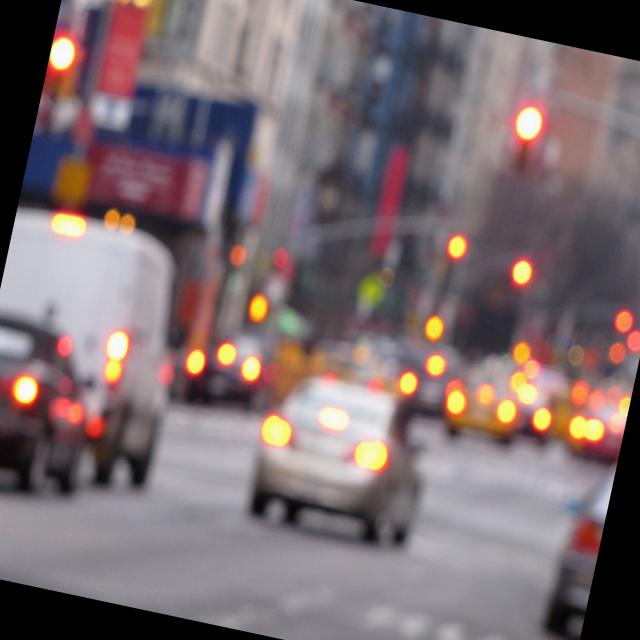Vehicle: (0, 185, 209, 494), (238, 364, 444, 553), (0, 310, 115, 509), (542, 441, 620, 634), (436, 352, 534, 451), (182, 322, 278, 418), (552, 388, 630, 466)
